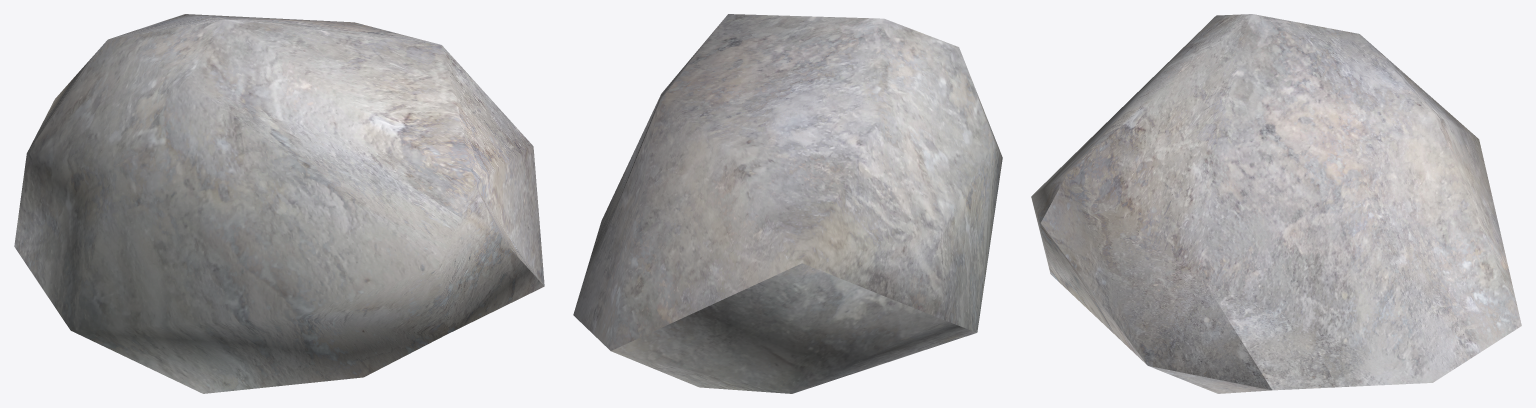
Rendered from rock_00G_lp_2k.fbx.
The picture shows the model from 3 angles, left to right: view 1: azimuth 30°, elevation 25°; view 2: azimuth 150°, elevation 25°; view 3: azimuth 270°, elevation 25°; orthographic projection. The views are drawn at different scales.
Parts seen in each view (by area): view 1: rock_00G_lp_2k; view 2: rock_00G_lp_2k; view 3: rock_00G_lp_2k.
Part boxes in pixels (x1=…): rock_00G_lp_2k: x1=14, y1=14, x2=544, y2=393; rock_00G_lp_2k: x1=573, y1=14, x2=1002, y2=393; rock_00G_lp_2k: x1=1031, y1=14, x2=1521, y2=393.
Bounding box in the file's own units: 198 × 161 × 222.
